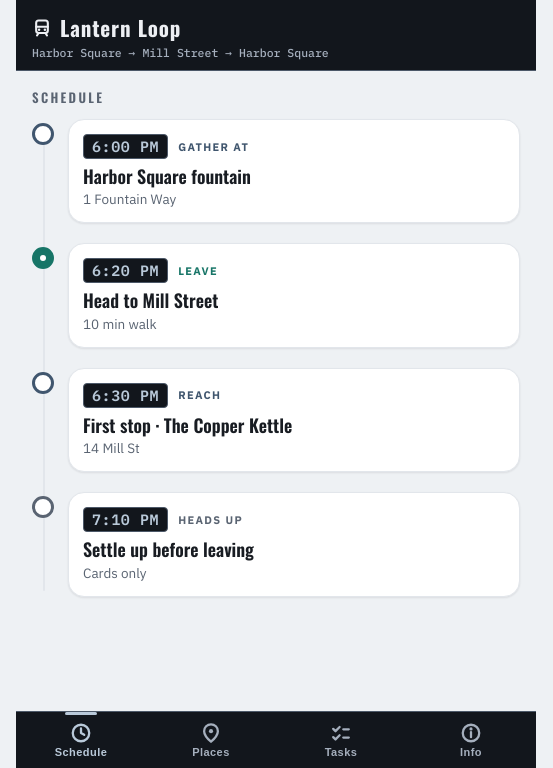
it: keeps saved checks by task id after an author retitles the tasks
expect the element with test id "view-schedule" is shown: met, box [32,119,520,597]
Click the button "Tasks".
click(341, 740)  # box [276,712,406,767]
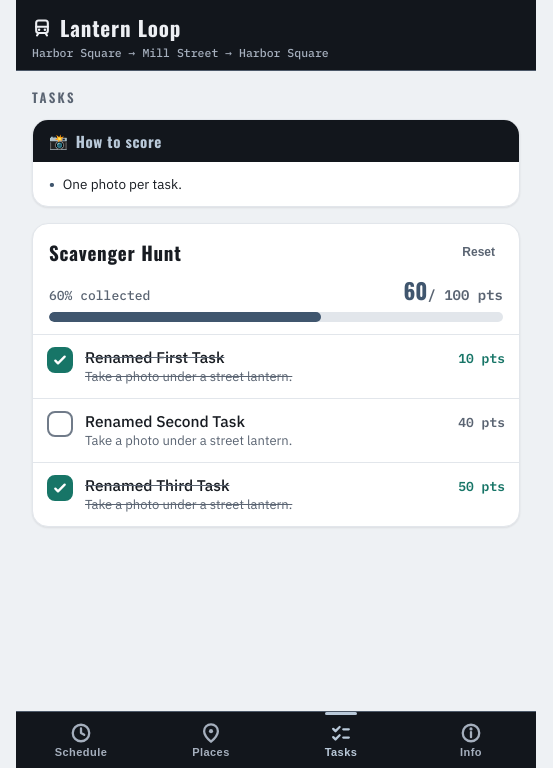
expect the element with test id "view-tasks" is shown: met, box [32,119,520,527]
expect the element with class "tally-pts" reads "60/ 100 pts": met, box [404,274,503,306]
